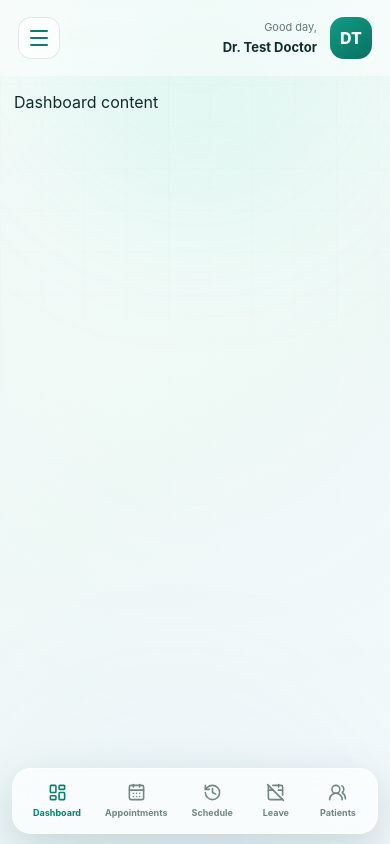
Test: responsive navigation › makes every Doctor destination and sign out reachable from the mobile drawer
This screenshot has width=390, height=844.
Click the button named "Open navigation": (39, 38) 18,17 -> 60,59
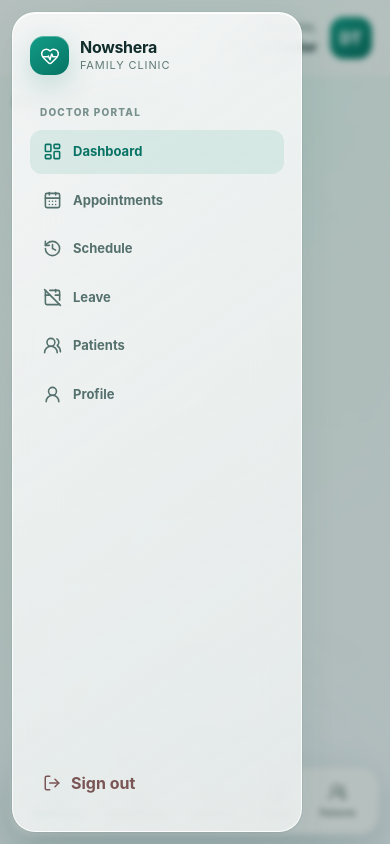
Expected: the element that starts with "Nowshera" is shown
Expected: the element that starts with "Nowshera" shows "Dashboard", 30,130 -> 284,174
Expected: the element that starts with "Nowshera" shows "Appointments", 30,178 -> 284,222
